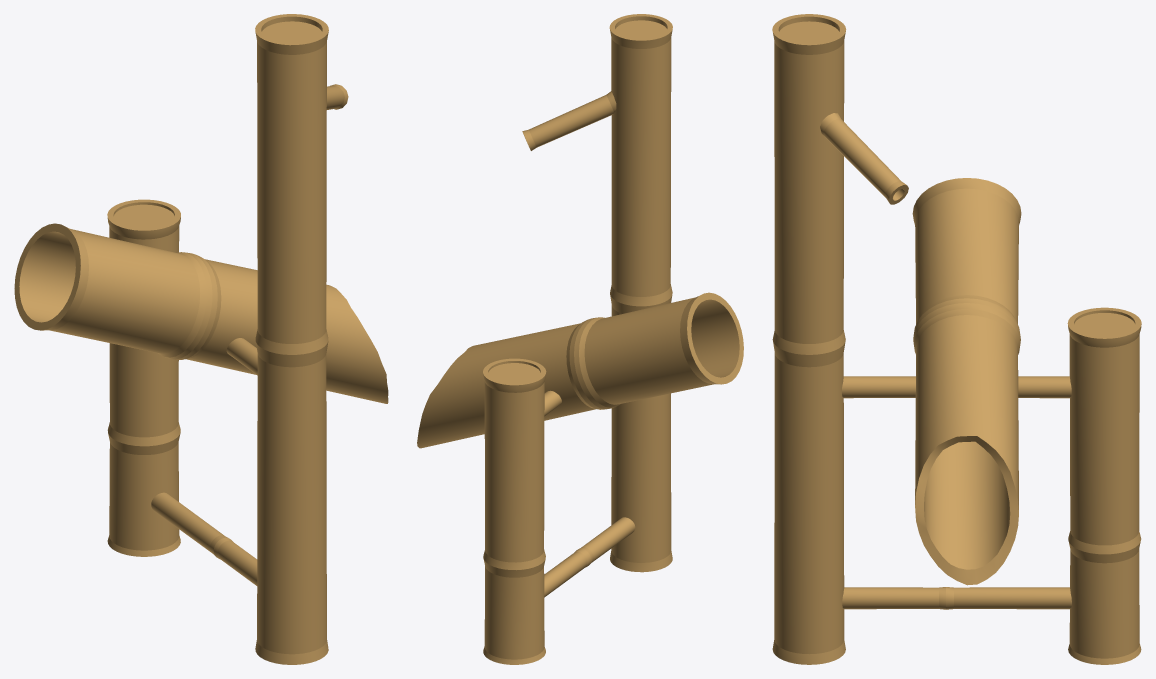
The model's file is shishi_odoshi2.fbx.
3 views of the same model, side by side, from view 1: azimuth 30°, elevation 25°; view 2: azimuth 150°, elevation 25°; view 3: azimuth 270°, elevation 25° (orthographic). The views are drawn at different scales.
Parts seen in each view (by area): view 1: shishi-odoshi; view 2: shishi-odoshi; view 3: shishi-odoshi.
Part boxes in pixels (box(x1,y1,x2,y2)): shishi-odoshi: box(14, 14, 388, 664); shishi-odoshi: box(417, 14, 743, 664); shishi-odoshi: box(772, 14, 1141, 664).
Bounding box in the file's own units: 627 × 1043 × 563.
